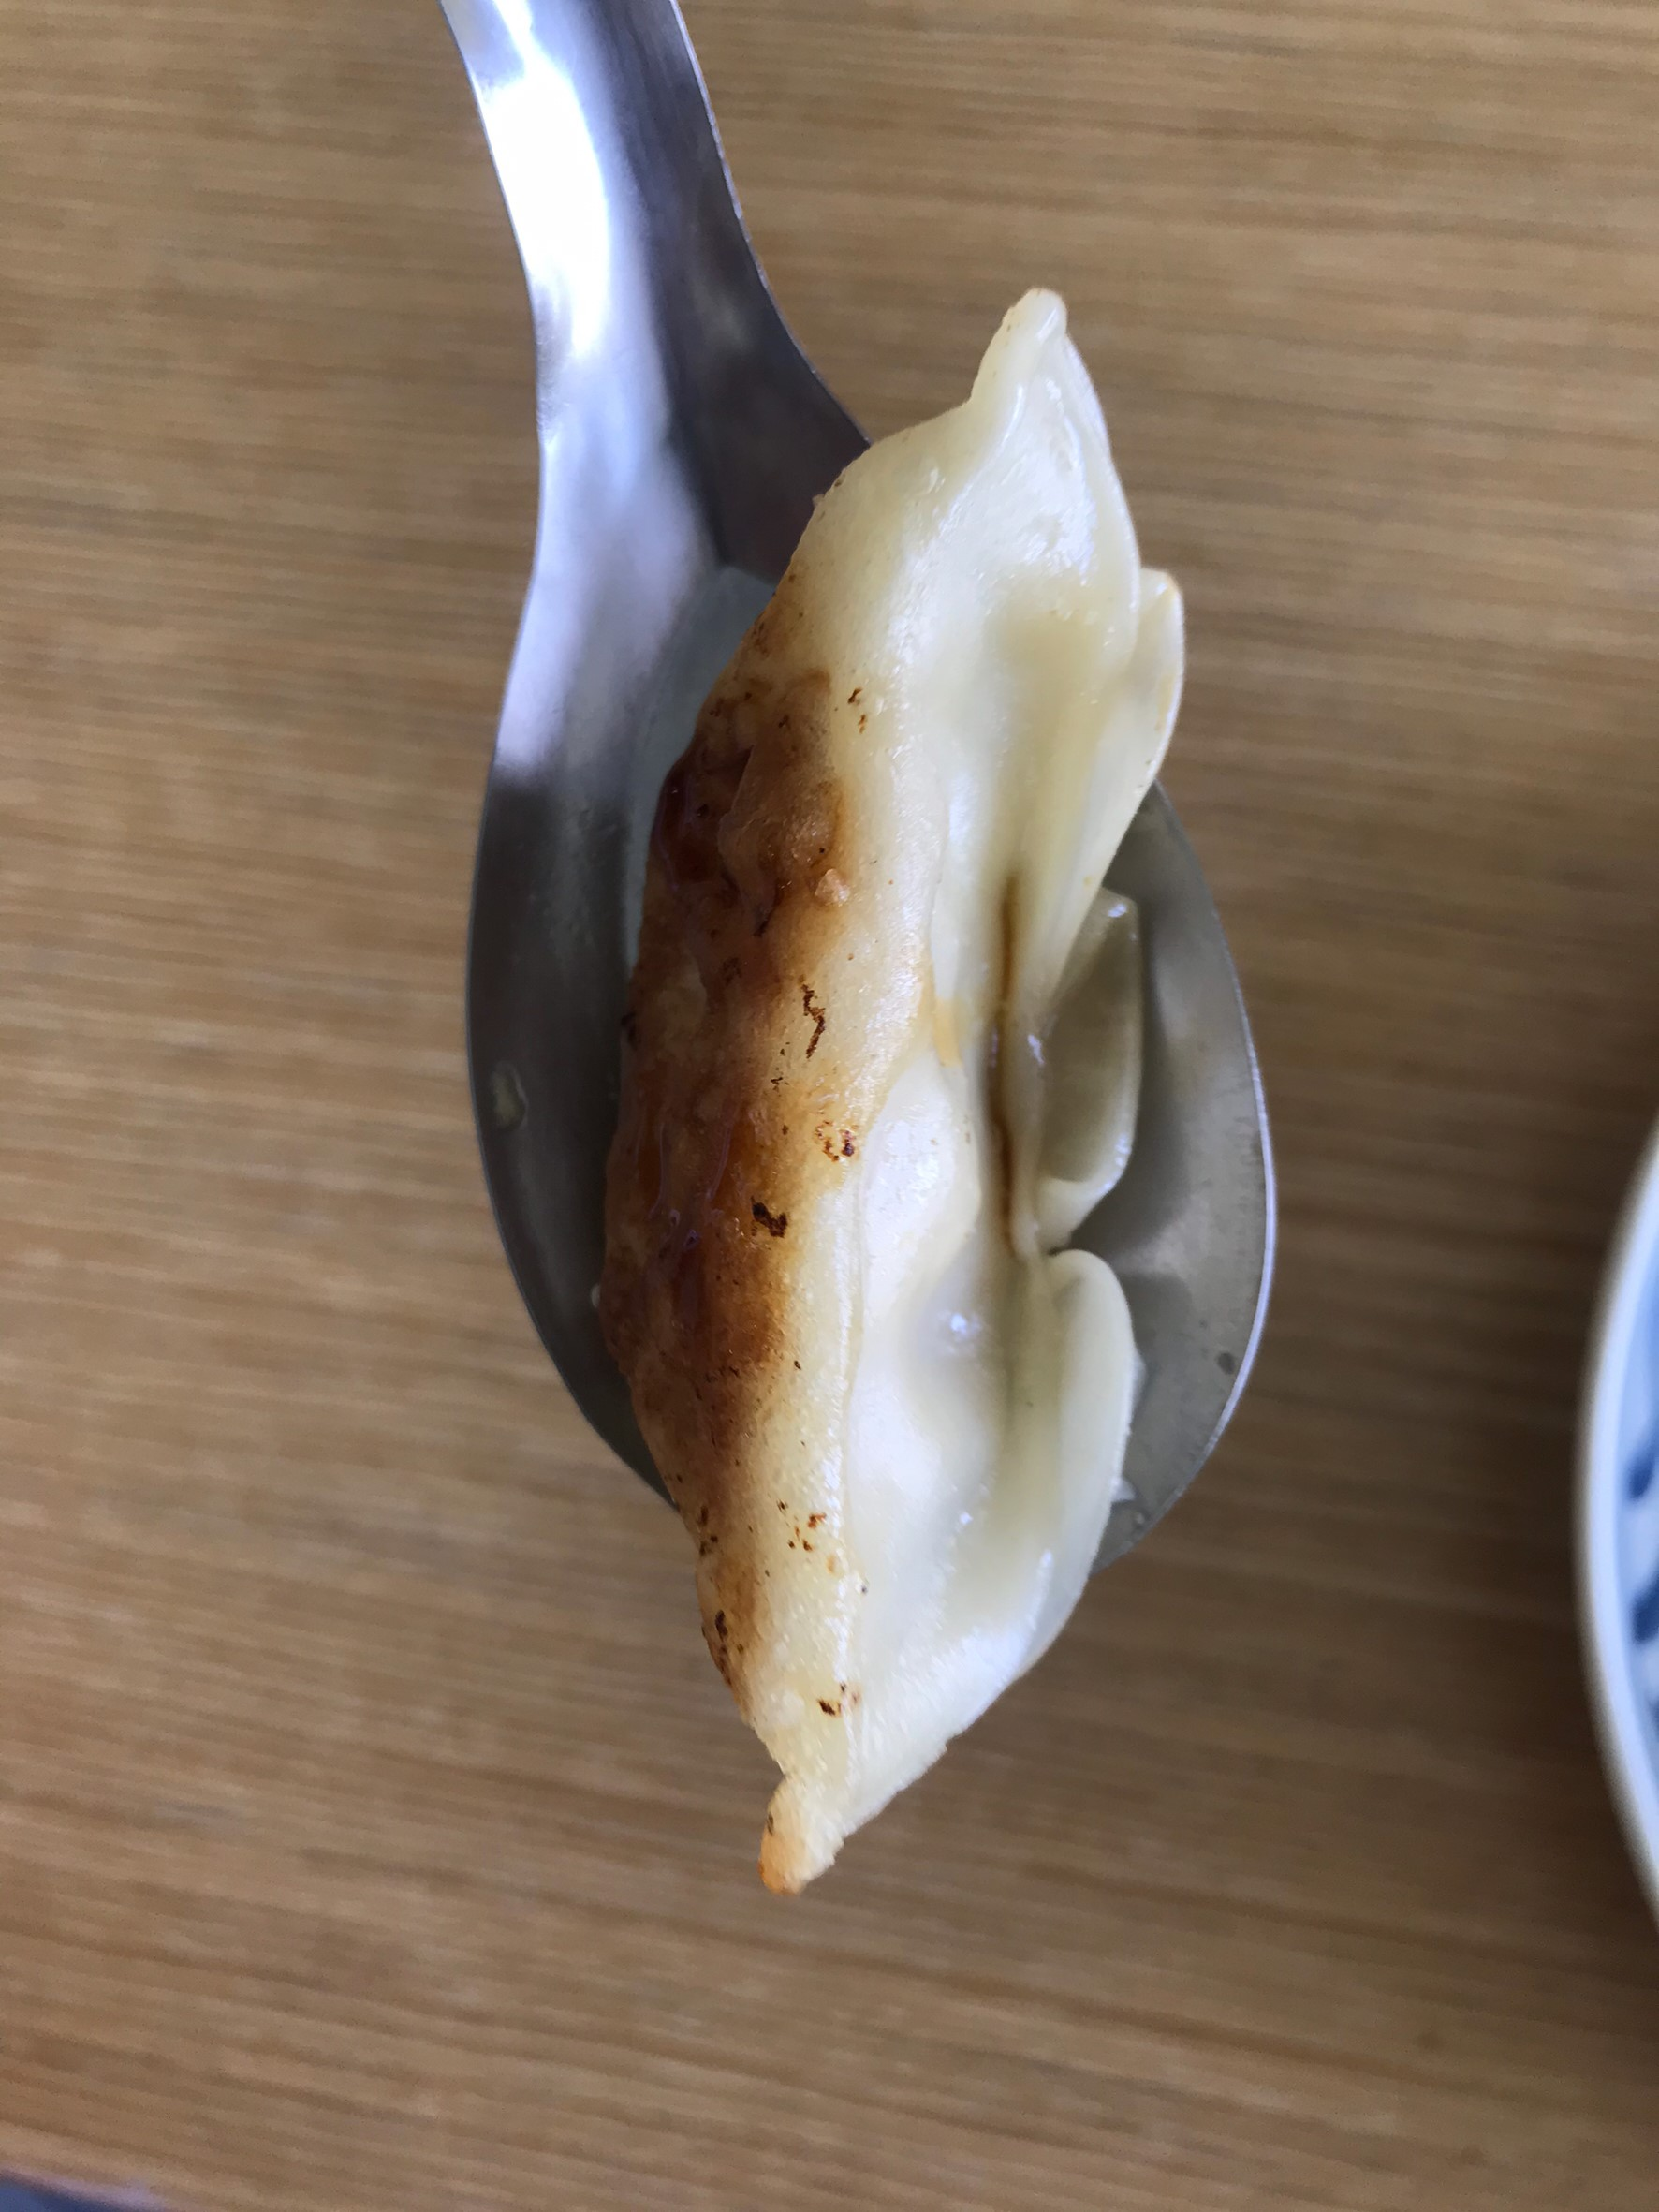fried_dumplings: (647, 333, 1164, 1795)
